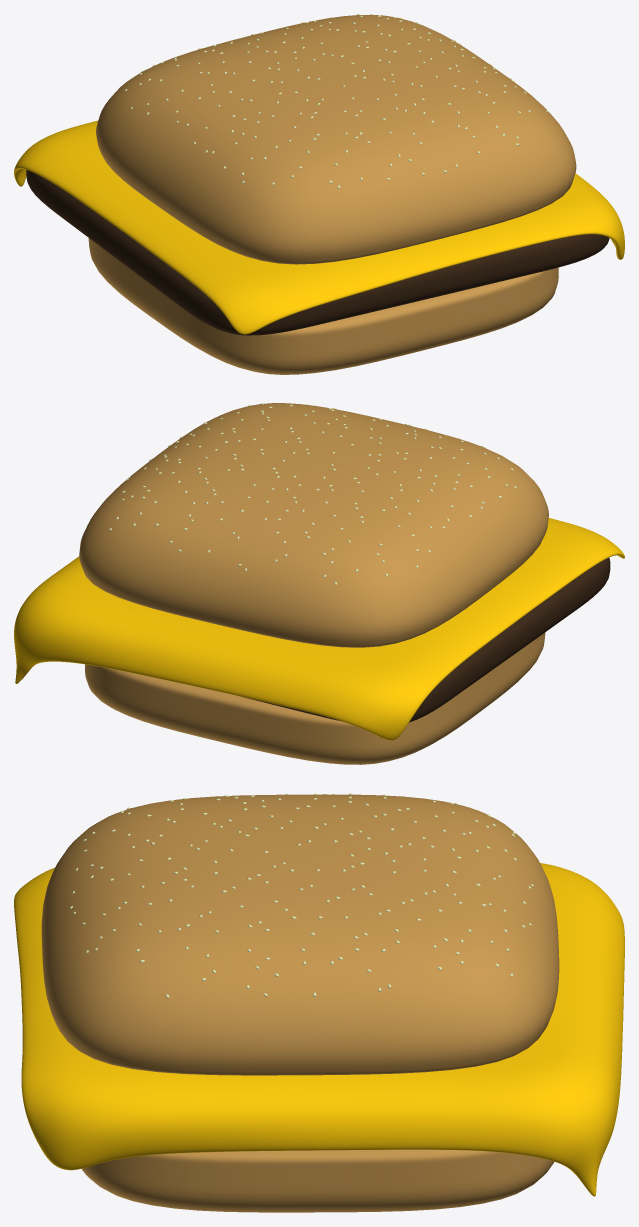
The model's file is cheeseburger.glb.
3 views of the same model, one above another, from view 1: azimuth 30°, elevation 25°; view 2: azimuth 150°, elevation 25°; view 3: azimuth 270°, elevation 25° (orthographic). The views are drawn at different scales.
Parts seen in each view (by area): view 1: bun-top, cheese, bun-bottom, patty-bottom, seeds; view 2: bun-top, cheese, bun-bottom, patty-bottom, seeds; view 3: bun-top, cheese, bun-bottom, seeds.
Boxes of the visible parts, x1,y1,x2,y2 form: bun-top: (96,14,576,264); cheese: (14,120,624,334); bun-bottom: (88,238,558,374); patty-bottom: (26,170,609,335); seeds: (124,14,548,188); bun-top: (79,403,548,647); cheese: (14,518,624,740); bun-bottom: (85,632,545,764); patty-bottom: (240,558,610,722); seeds: (109,403,516,585); bun-top: (41,794,559,1075); cheese: (14,863,624,1196); bun-bottom: (81,1149,553,1212); seeds: (69,793,534,998).
Bounding box in the file's own units: 1.19 × 0.6111 × 1.21.
